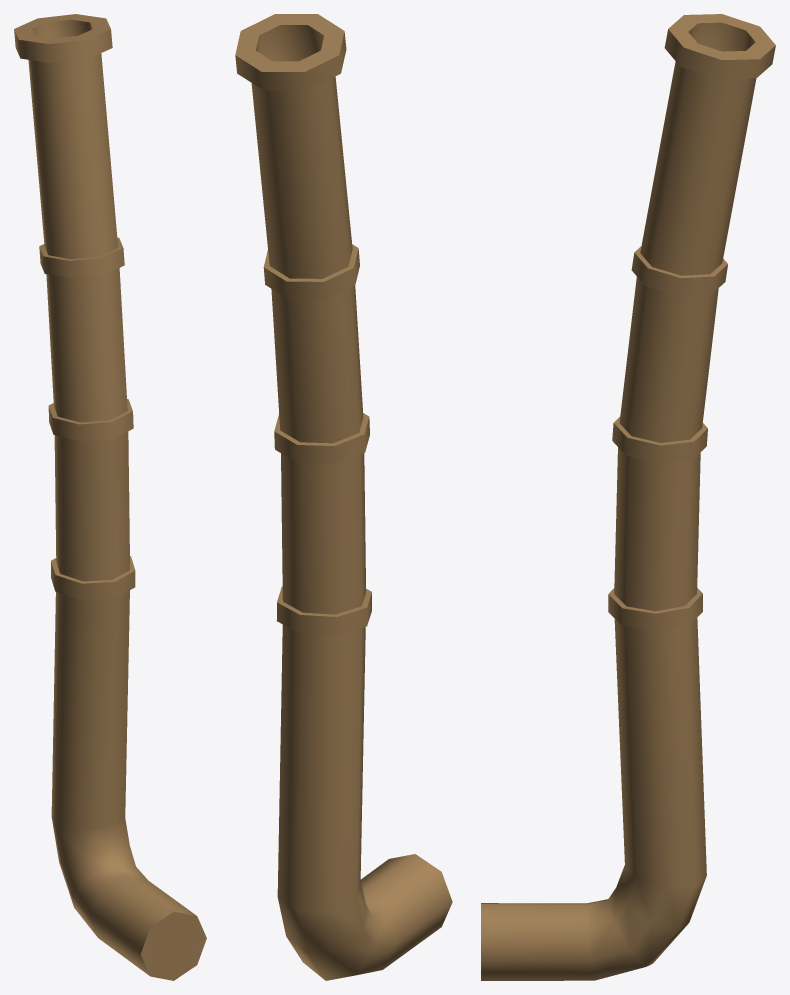
File: SP_House02_Pipe07.fbx
3 views of the same model, side by side, from view 1: azimuth 30°, elevation 25°; view 2: azimuth 150°, elevation 25°; view 3: azimuth 270°, elevation 25° (orthographic). The views are drawn at different scales.
Parts seen in each view (by area): view 1: SP_House02_Pipe07; view 2: SP_House02_Pipe07; view 3: SP_House02_Pipe07.
Part boxes in pixels (x1,y1,x2,y2): SP_House02_Pipe07: (14, 14, 206, 980); SP_House02_Pipe07: (235, 14, 452, 980); SP_House02_Pipe07: (481, 14, 775, 980).
Bounding box in the file's own units: 0.6595 × 6.33 × 1.78.
